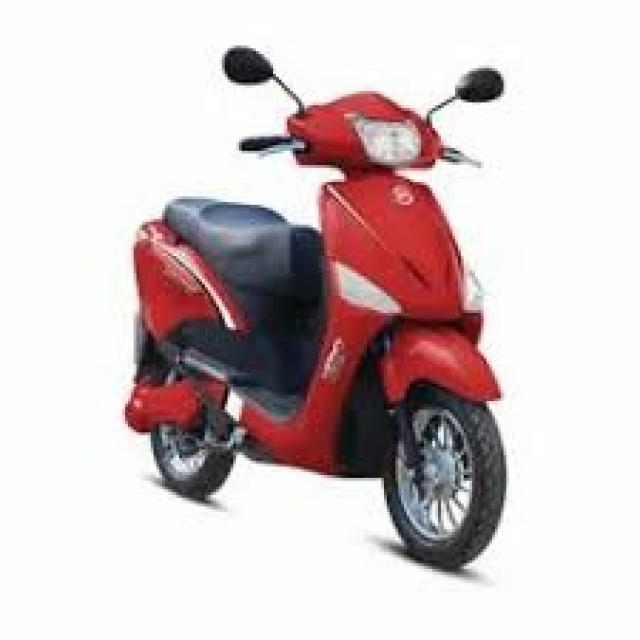Scooty: (131, 19, 518, 526)
